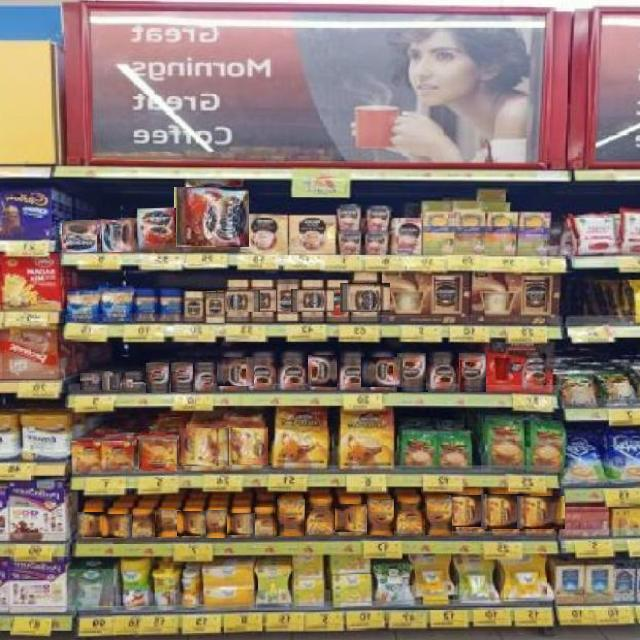Coffee: (174, 188, 249, 247), (180, 428, 229, 466), (220, 428, 268, 465), (480, 494, 530, 529), (137, 208, 176, 251), (516, 496, 565, 529), (445, 496, 495, 527), (339, 284, 390, 312), (139, 437, 177, 471), (303, 355, 343, 387), (247, 351, 279, 391), (396, 352, 428, 392), (362, 356, 403, 387), (337, 351, 367, 392), (214, 356, 254, 386), (279, 351, 308, 392), (61, 220, 97, 253), (427, 352, 458, 390), (458, 352, 486, 392), (332, 503, 370, 532), (102, 218, 134, 252), (275, 279, 300, 321), (307, 500, 335, 537), (277, 499, 305, 536), (216, 289, 260, 312), (290, 289, 334, 312), (366, 499, 394, 535), (425, 498, 452, 535), (240, 289, 283, 312), (397, 498, 422, 535), (177, 510, 207, 536), (155, 509, 181, 537), (103, 513, 132, 538), (146, 362, 169, 393), (77, 513, 106, 537), (194, 363, 217, 393), (204, 291, 225, 323), (130, 510, 153, 539), (225, 513, 255, 535), (171, 362, 193, 392), (252, 508, 274, 537), (205, 509, 227, 538), (184, 292, 202, 322), (79, 373, 102, 390), (123, 372, 144, 390), (102, 372, 120, 390)
